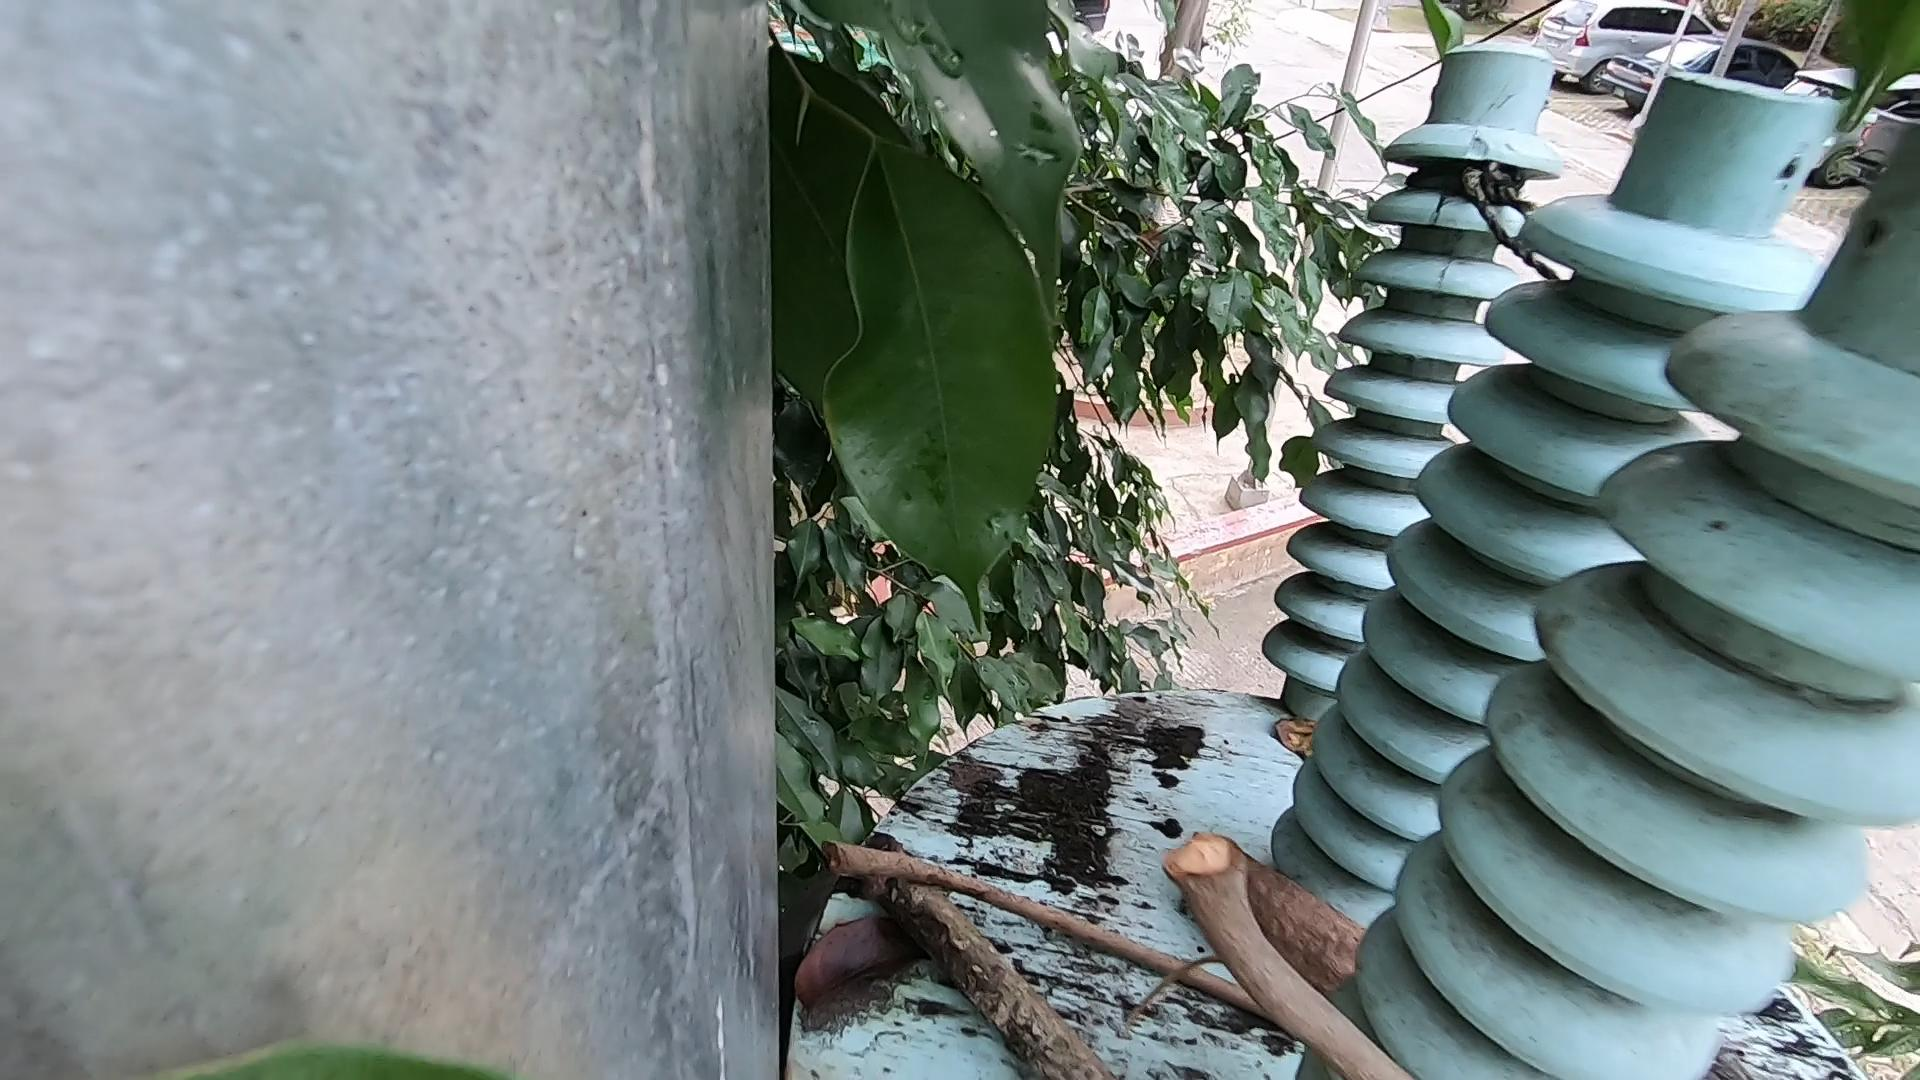branch with leaves: (845, 822, 1104, 1080)
leaf: (789, 884, 947, 1030), (1278, 698, 1333, 757)
mahogany fruit: (1160, 814, 1404, 1001)
tree branch: (825, 828, 1279, 1025), (1156, 814, 1414, 1080)
